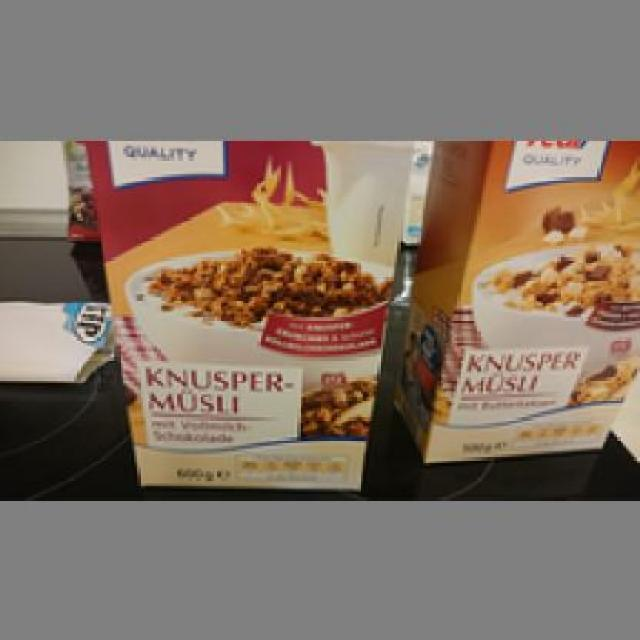Cereal: (80, 134, 414, 486), (400, 143, 637, 463)
